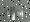person: (8, 5, 15, 20), (18, 11, 23, 19)
